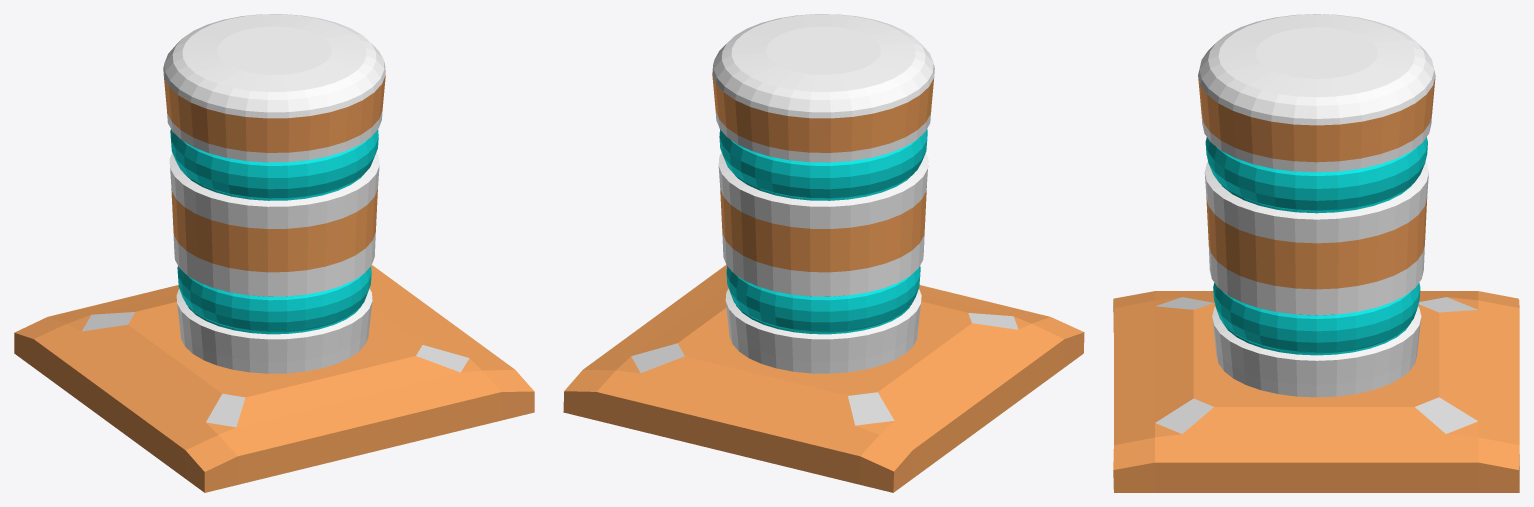
File: relais éléctrique.fbx
3 views of the same model, side by side, from view 1: azimuth 30°, elevation 25°; view 2: azimuth 150°, elevation 25°; view 3: azimuth 270°, elevation 25° (orthographic). The views are drawn at different scales.
Visible parts, largest first — view 1: Cylinder, Cube; view 2: Cylinder, Cube; view 3: Cylinder, Cube.
Boxes of the visible parts, x1,y1,x2,y2 form: Cylinder: [163, 14, 385, 373]; Cube: [14, 265, 534, 492]; Cylinder: [712, 14, 934, 373]; Cube: [563, 265, 1084, 492]; Cylinder: [1198, 14, 1435, 397]; Cube: [1113, 291, 1519, 492].
Size of the model in its own units: 579 by 557 by 579.
